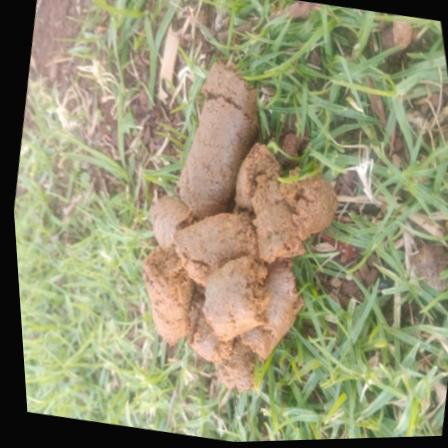dog-poop: (108, 50, 363, 406)
